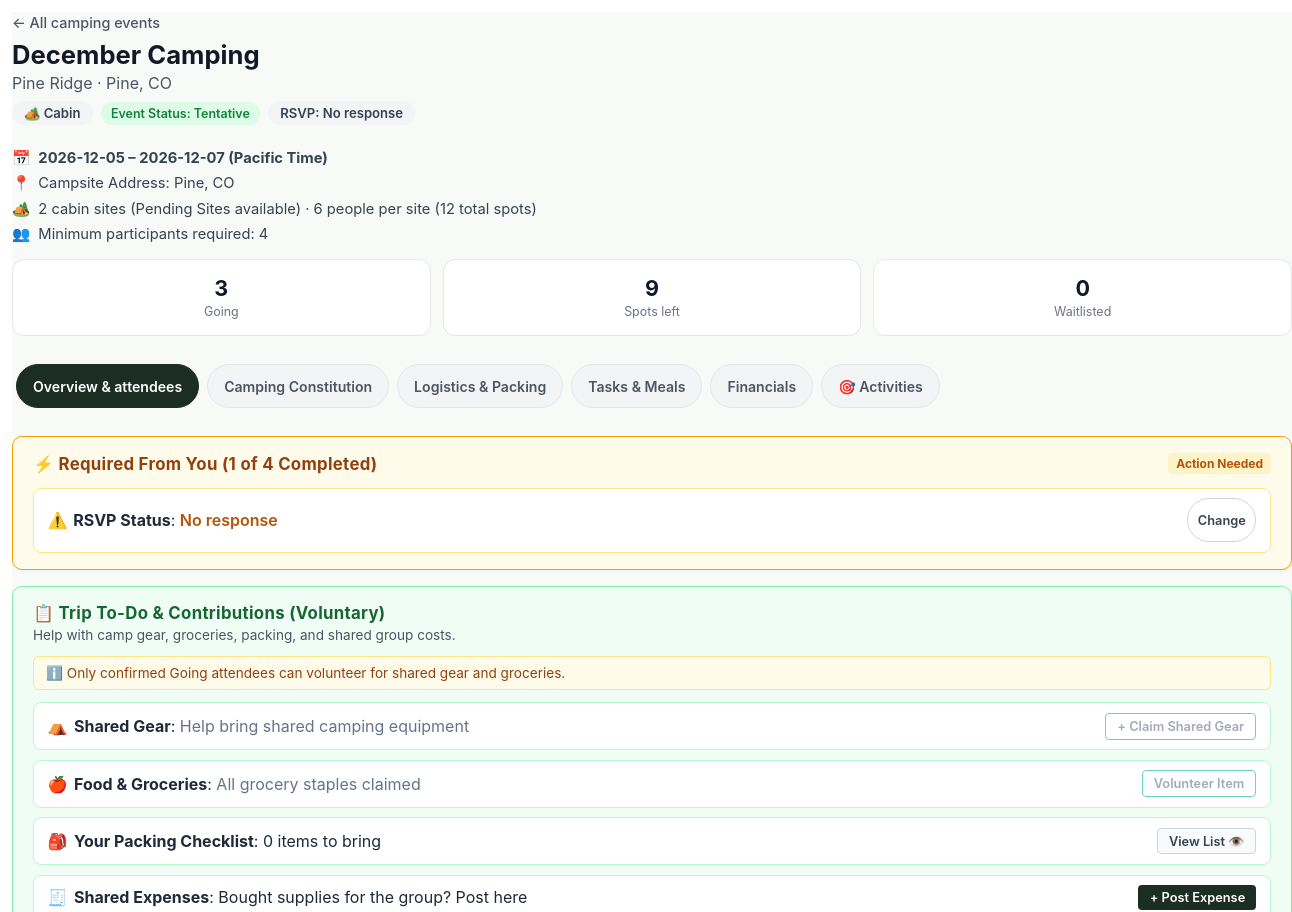
EventDetailsPage › switches to Financials tab and displays settlement and expenses
Expected: the heading "December Camping" is shown, [12,39,260,70]
Click the tab "Financials" at (762, 386), box [710,364,813,408]
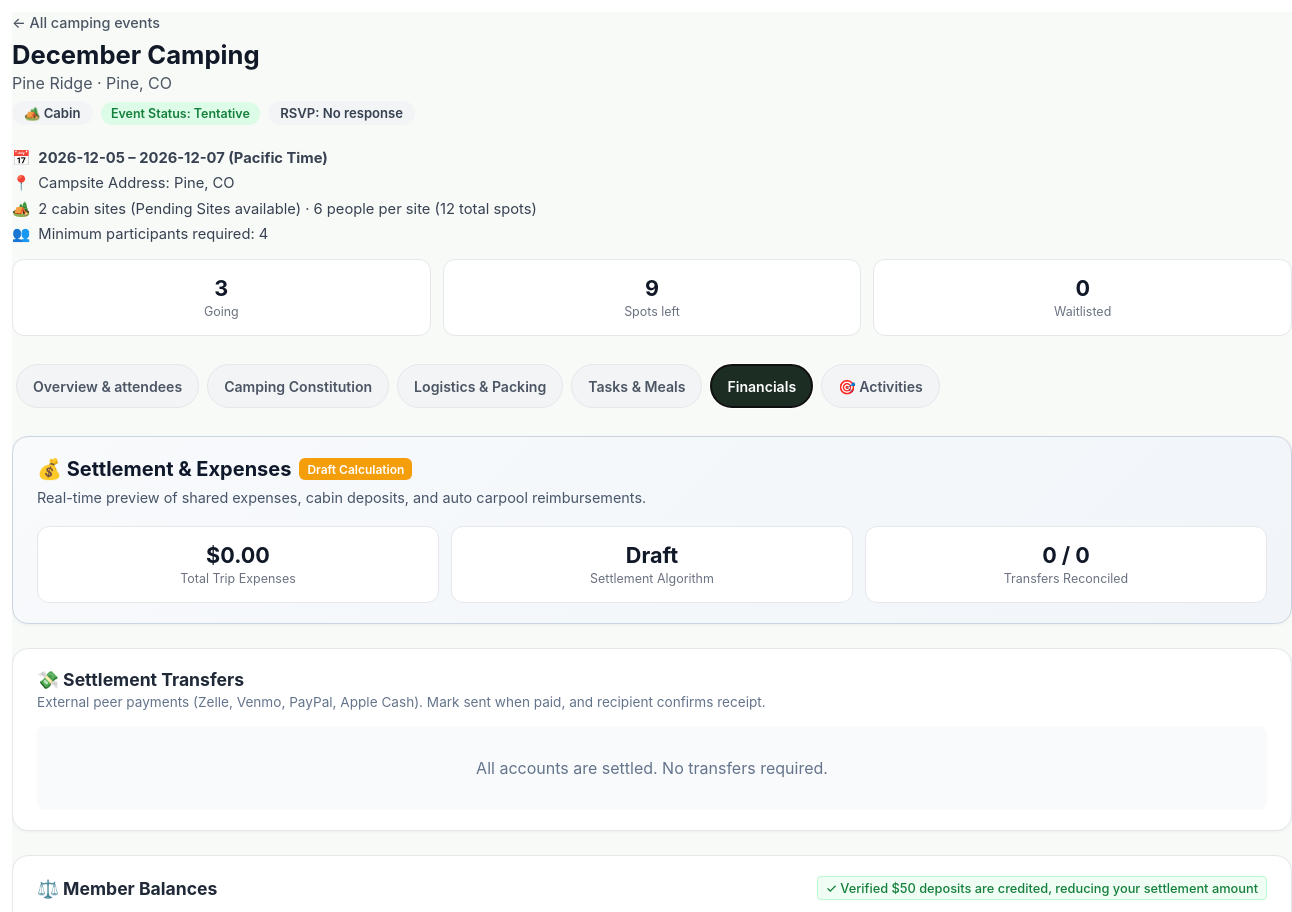
Expected: the heading "💰 Settlement & Expenses" is shown, [37,457,291,481]
Expected: the heading "💸 Settlement Transfers" is shown, [37,669,244,690]
